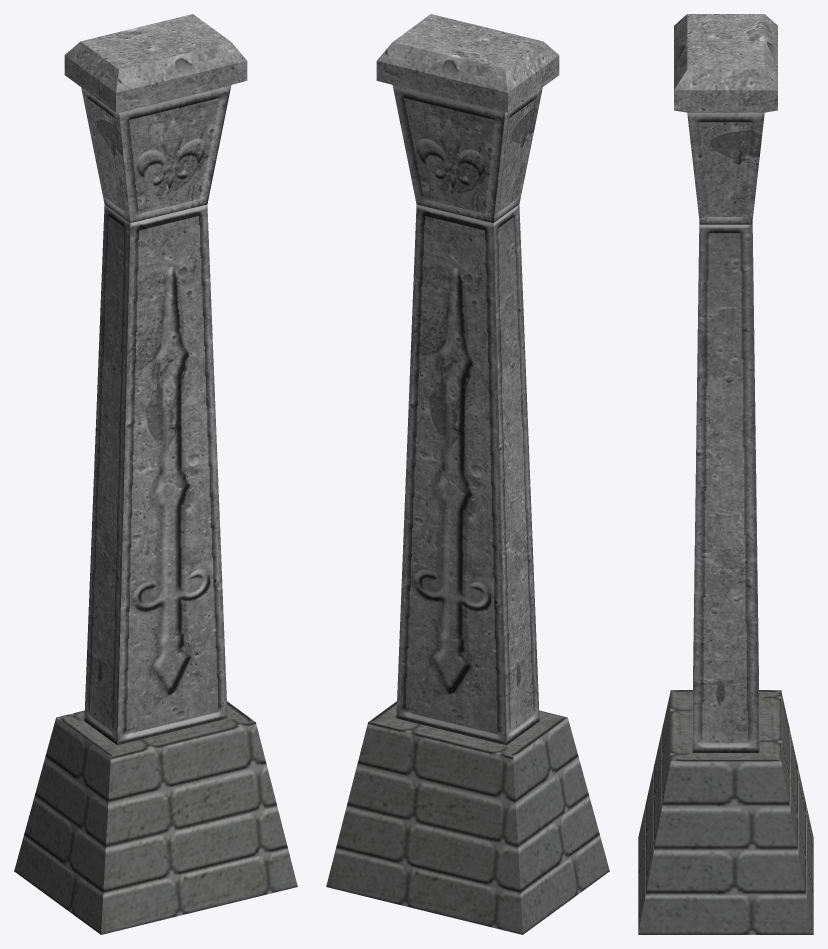
The model's file is fence_column.FBX.
3 renders of one model, left to right at view 1: azimuth 30°, elevation 25°; view 2: azimuth 150°, elevation 25°; view 3: azimuth 270°, elevation 25°, orthographic.
Visible parts, largest first — view 1: fence_column; view 2: fence_column; view 3: fence_column.
Part boxes in pixels (bbox=[...]): fence_column: bbox=[14, 14, 297, 934]; fence_column: bbox=[326, 14, 609, 934]; fence_column: bbox=[638, 14, 813, 934].
Size of the model in its own units: 42.34 by 172 by 32.42.
